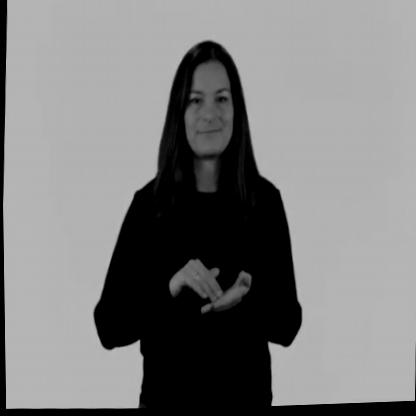ExcuseMe: (159, 230, 251, 331)
